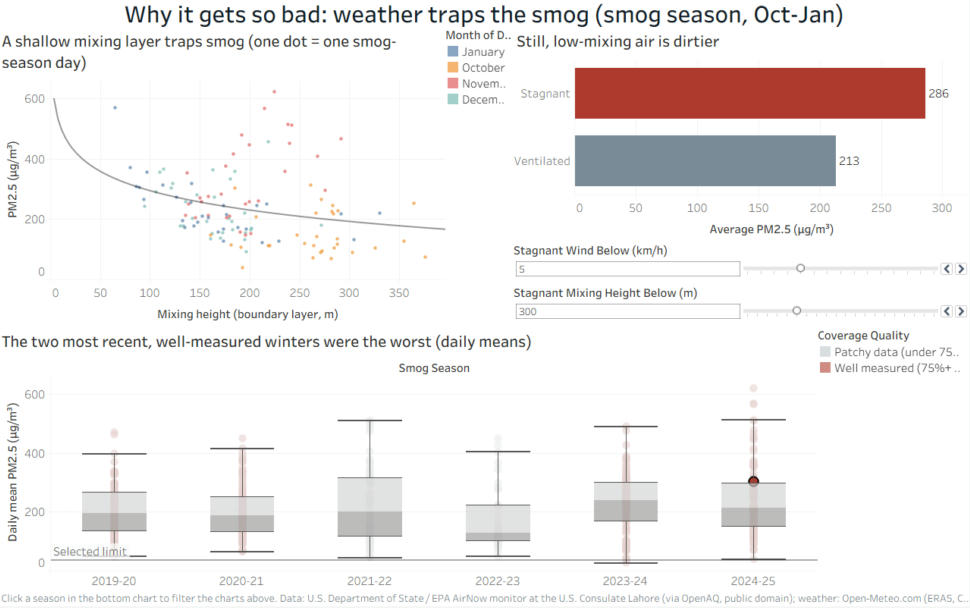

This screenshot's page, from the dashboard's own definition file:
{"tool":"tableau","page":{"name":"Why: Weather","canvas":[1280,800],"ordinal":1},"visuals":[{"type":"text","box":[0,0,1280,36]},{"type":"NONE","title":"Mixing Height vs PM2.5","box":[0,36,743.7,371]},{"type":"legend","title":"Mixing Height vs PM2.5","param":"[federated.0ahyg8e1xelf3914bag3r0yukuro].[mn:Date Time:ok]","box":[743.7,36,90,371]},{"type":"NONE","title":"Stagnant vs Ventilated","box":[833.8,36,446.2,259]},{"type":"parameter","param":"[Parameters].[Parameter 3]","box":[833.8,295,446.2,56]},{"type":"parameter","param":"[Parameters].[Parameter 4]","box":[833.8,351,446.2,56]},{"type":"NONE","title":"Smog Seasons","box":[0,407,1080,371]},{"type":"legend","title":"Smog Seasons","param":"[federated.0ahyg8e1xelf3914bag3r0yukuro].[none:Calculation_B8182103BA7B4970855AE","box":[1080,407,200,371]},{"type":"text","box":[0,778,1280,22]}]}

Visuals, with their boxes in screenshot pixels (x1, y1, x2, y2), scaled from the page's 1280x800 canvas onto the 970x608 screenshot:
text: l=0, t=0, r=969, b=27
"Mixing Height vs PM2.5" NONE: l=0, t=27, r=564, b=309
"Mixing Height vs PM2.5" legend: l=564, t=27, r=632, b=309
"Stagnant vs Ventilated" NONE: l=632, t=27, r=969, b=224
parameter: l=632, t=224, r=969, b=267
parameter: l=632, t=267, r=969, b=309
"Smog Seasons" NONE: l=0, t=309, r=818, b=591
"Smog Seasons" legend: l=818, t=309, r=969, b=591
text: l=0, t=591, r=969, b=607
